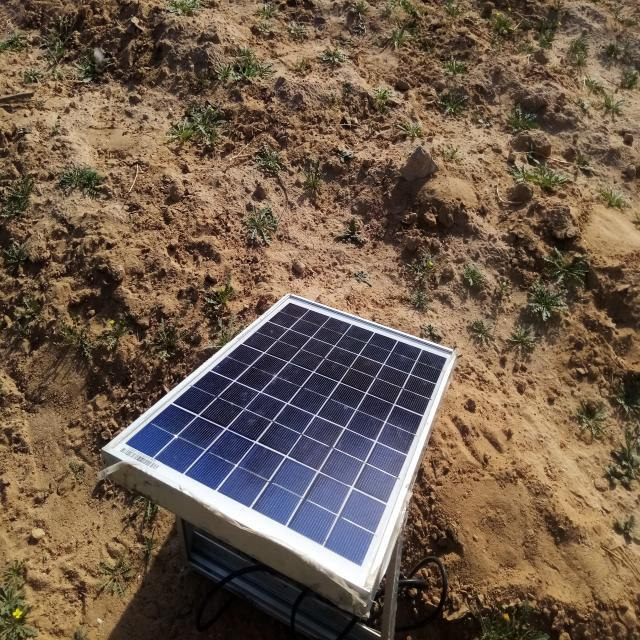no faulty: (106, 293, 452, 593)
